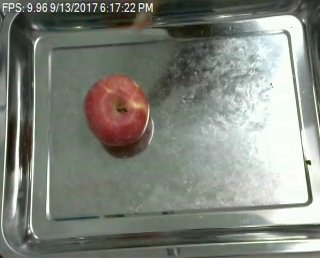Apple: (82, 73, 151, 147)
